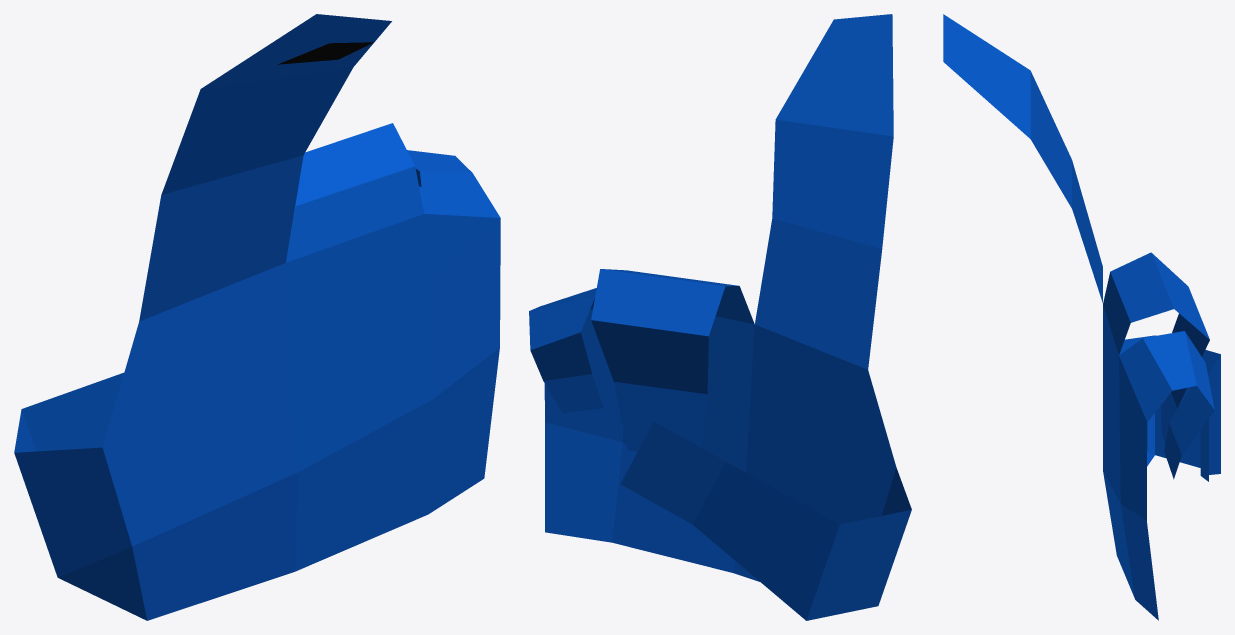
Rendered from hand.FBX.
3 renders of one model, left to right at view 1: azimuth 30°, elevation 25°; view 2: azimuth 150°, elevation 25°; view 3: azimuth 270°, elevation 25°, orthographic. The views are drawn at different scales.
Parts seen in each view (by area): view 1: hand, nail; view 2: hand; view 3: hand.
Boxes of the visible parts, left/top/right/bottom form: hand: left=14, top=14, right=500, bottom=620; nail: left=278, top=42, right=373, bottom=64; hand: left=529, top=14, right=911, bottom=620; hand: left=943, top=14, right=1220, bottom=620.
Bounding box in the file's own units: 8024 × 10774 × 5299.
